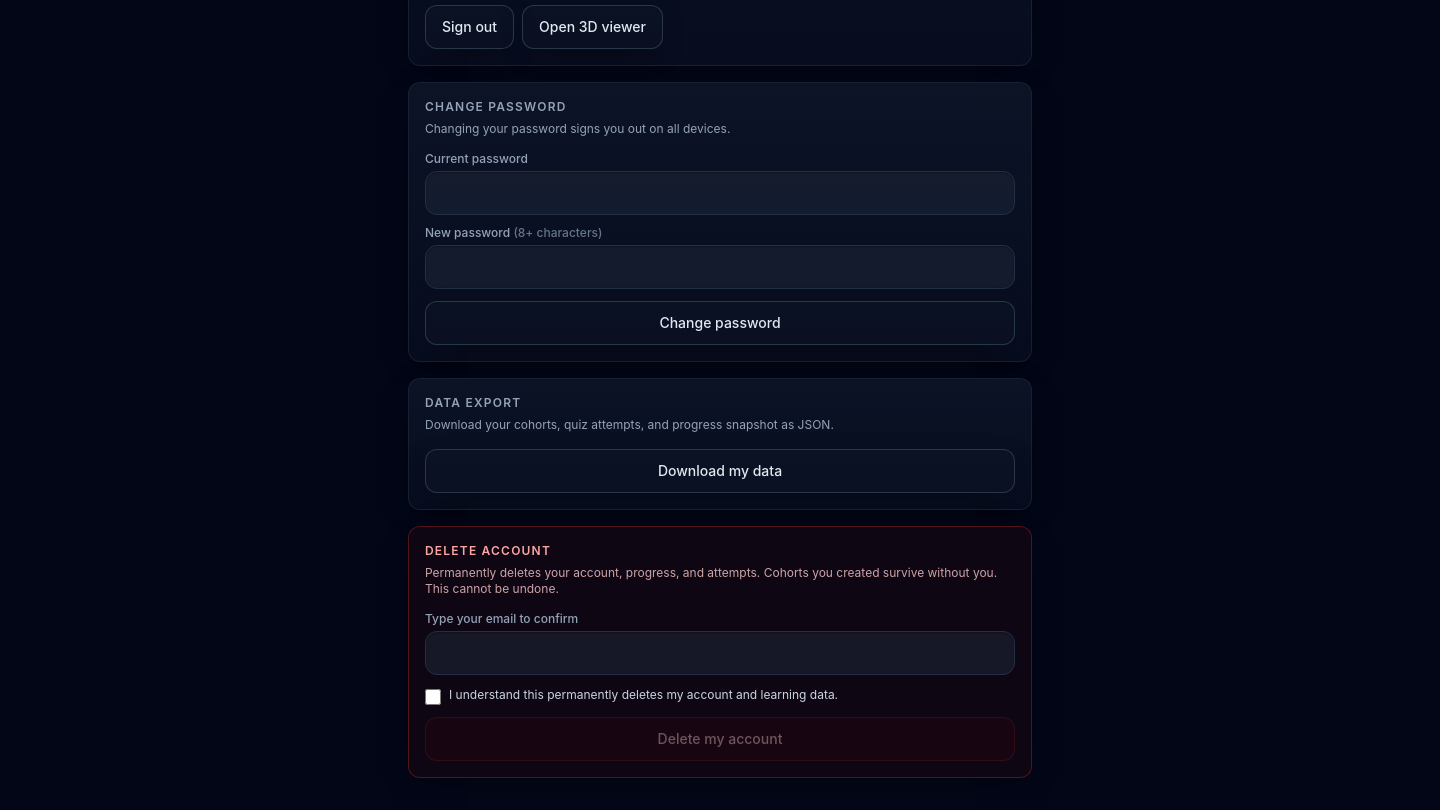
it: account page (8.20.2) › requires explicit confirmation before deleting
The width and height of the screenshot is (1440, 810).
(page scrolled)
Expected: the button with test id "account-delete-submit" is disabled, [425,717,1015,761]
Step 1. Type "a@b.c" into the field with test id "account-delete-email" → (720, 653), box [425,631,1015,675]
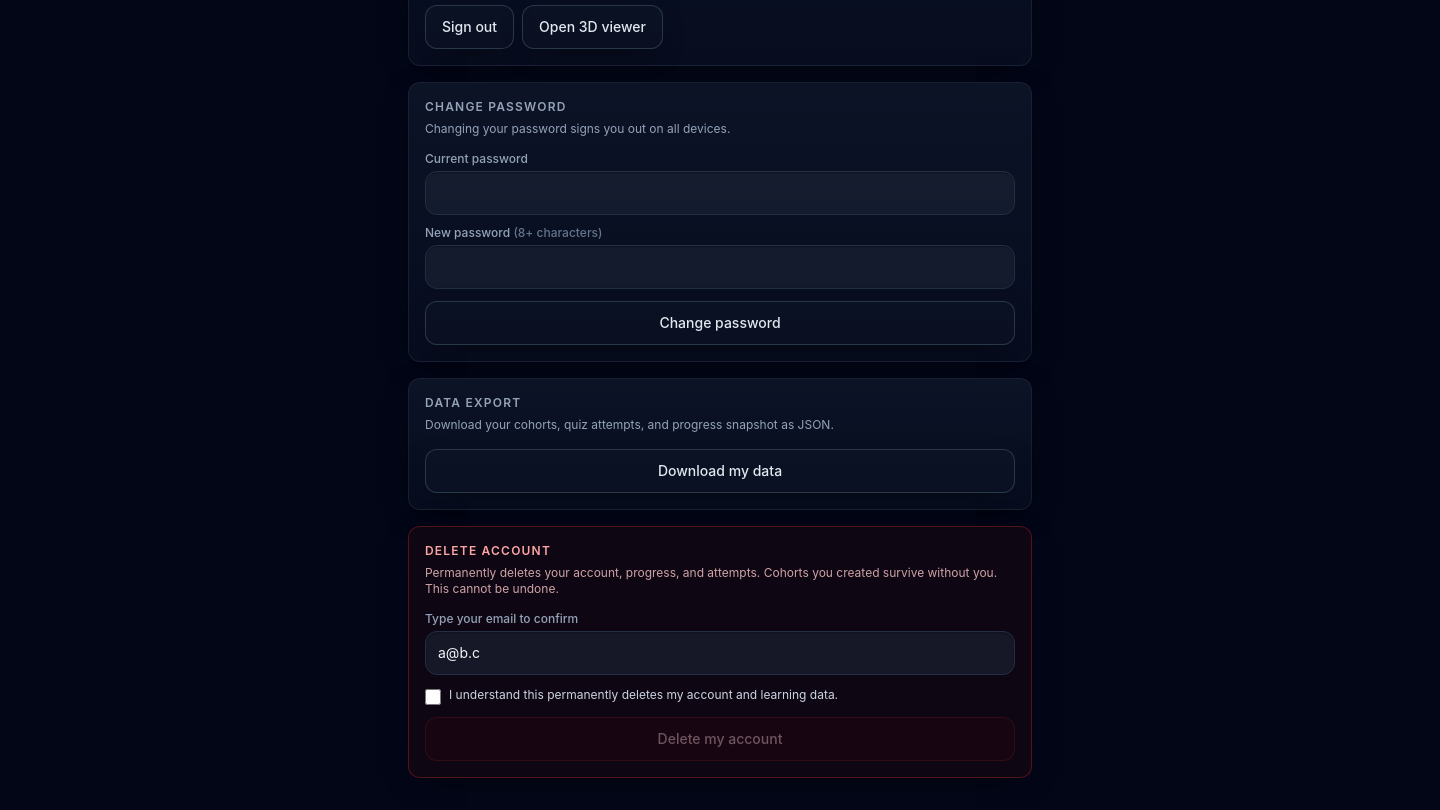
Expected: the button with test id "account-delete-submit" is disabled, [425,717,1015,761]
Step 2. Click the checkbox with test id "account-delete-check" → click(433, 697), box [425,689,441,705]
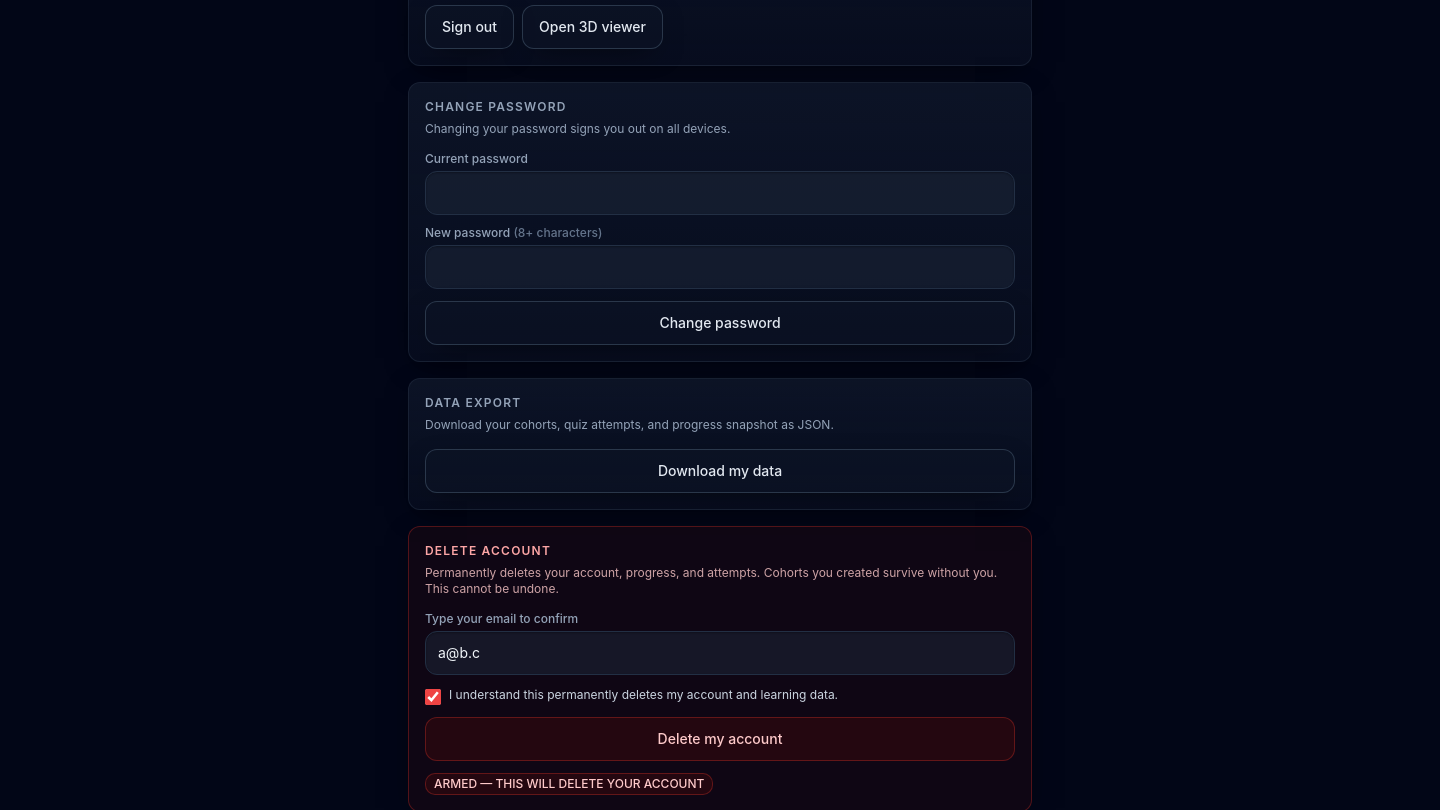
Expected: the button with test id "account-delete-submit" is enabled
Step 3. Click the button with test id "account-delete-submit" → click(720, 739), box [425,717,1015,761]
(page scrolled)
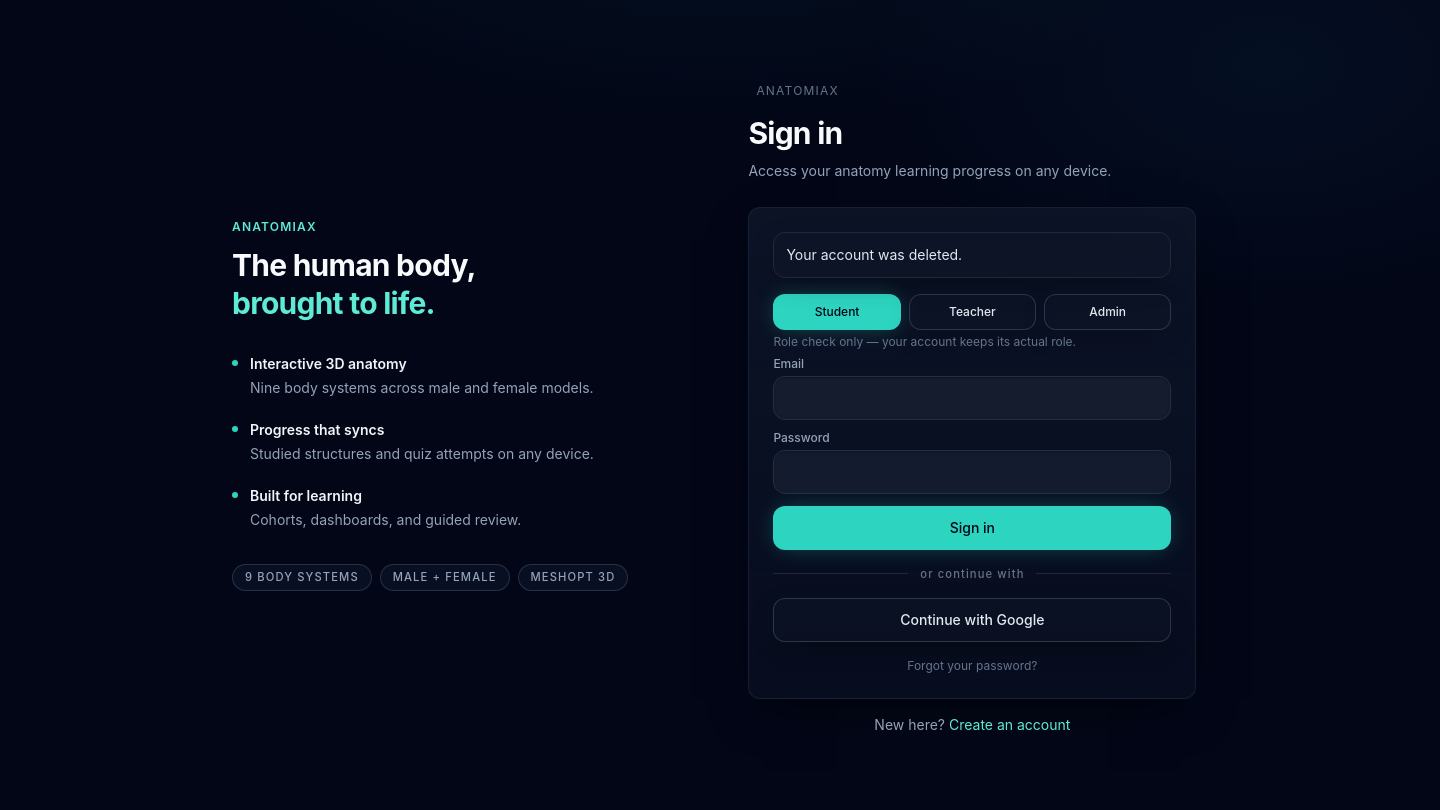
Expected: the message with test id "login-deleted-notice" shows "deleted", [786,246,962,263]
